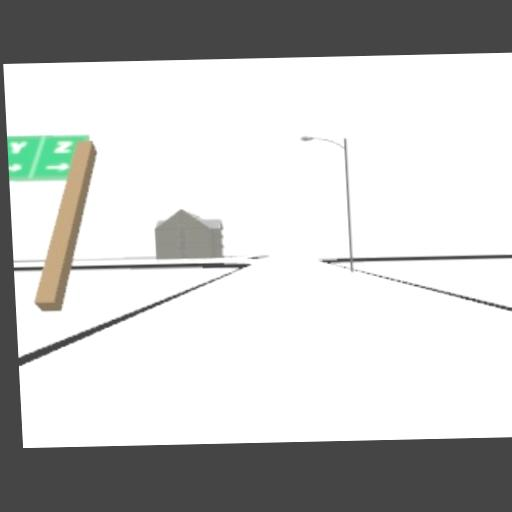Right: (43, 162, 70, 170), (9, 163, 22, 171)
Y: (9, 141, 28, 152)
Z: (53, 140, 72, 151)
